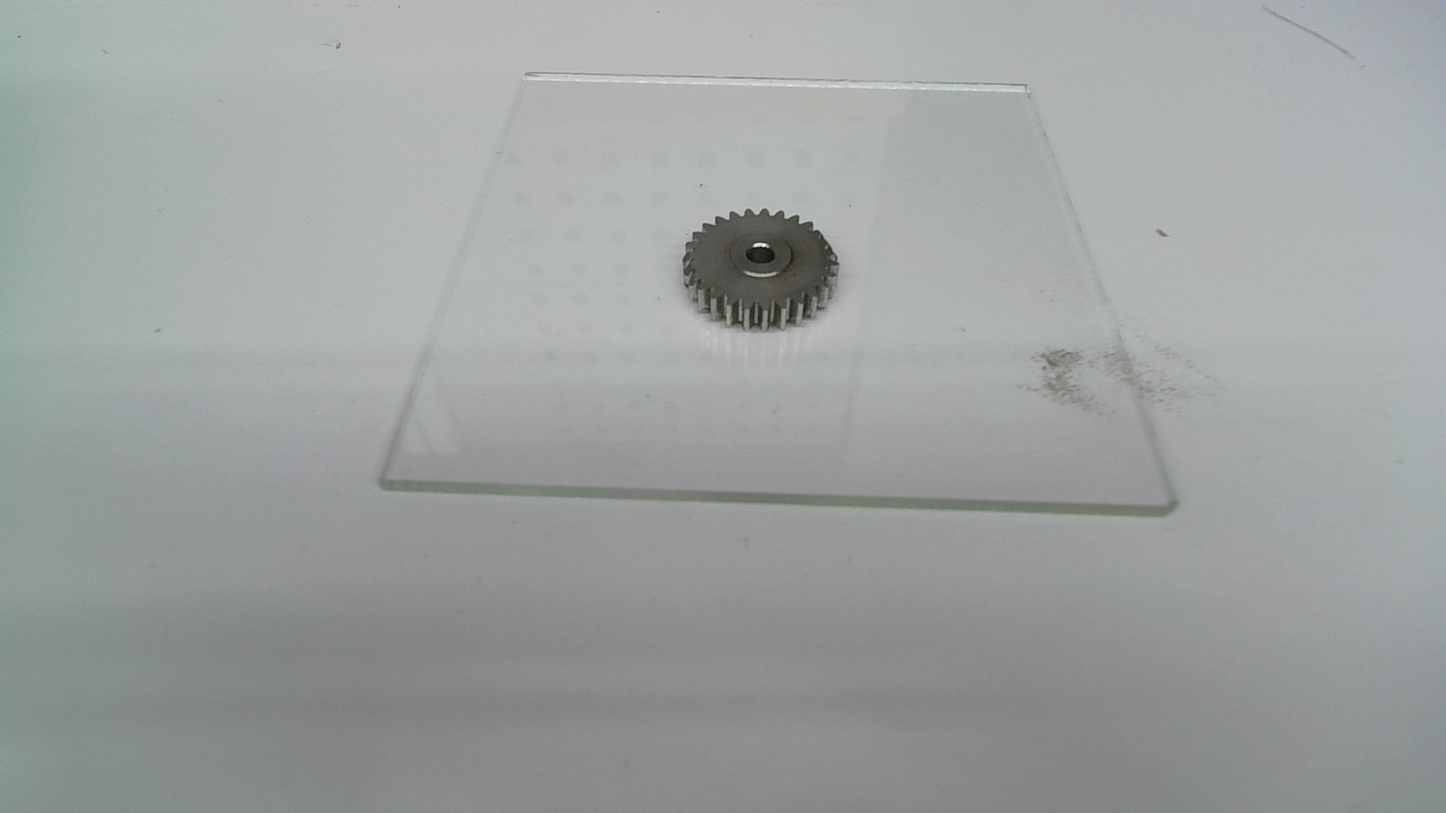gear: (678, 207, 839, 331)
